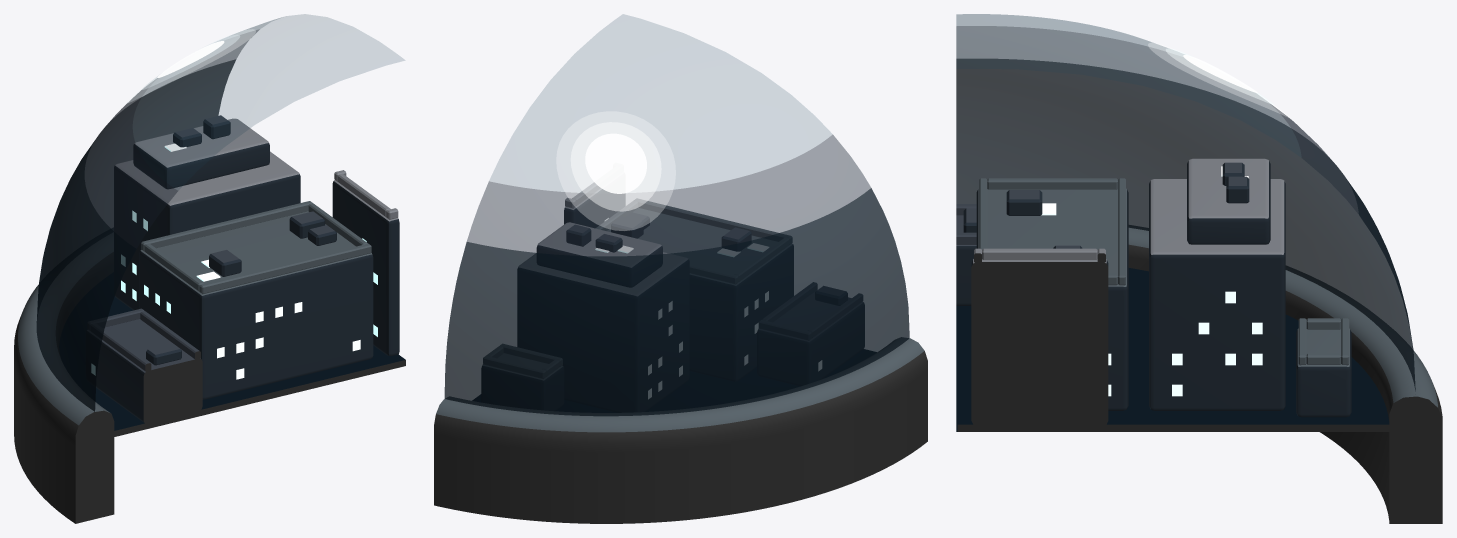
Rendered from glass_city_tl.glb.
3 views of the same model, side by side, from view 1: azimuth 30°, elevation 25°; view 2: azimuth 150°, elevation 25°; view 3: azimuth 270°, elevation 25° (orthographic). The views are drawn at different scales.
Visible parts, largest first — view 1: glassshell.001, b2.001, collar.001, b1.001, floor.001, b8.001, b1_top.001, b3.001, b2_rim_s.001, b2_rim_n.001, glassshell_a_halo.001, b2_windows.001 (+14 smaller); view 2: glassshell.001, collar.001, b1.001, b2.001, glassshell_a_halo.001, b8.001, b1_top.001, floor.001, glassshell_b_sheen.001, b15.001, glassshell_c_glint.001, b3.001 (+3 smaller); view 3: glassshell.001, b1.001, b3.001, collar.001, floor.001, b2.001, b1_top.001, b15.001, b2_rim_w.001, glassshell_a_halo.001, b3_rim_w.001, b8.001 (+6 smaller).
Part boxes in pixels (x1,y1,x2,y2): glassshell.001: [36, 14, 404, 411]; b2.001: [139, 211, 373, 399]; collar.001: [14, 232, 114, 523]; b1.001: [114, 151, 300, 310]; floor.001: [59, 272, 405, 436]; b8.001: [86, 319, 202, 423]; b1_top.001: [133, 118, 269, 189]; b3.001: [332, 180, 399, 355]; b2_rim_s.001: [199, 243, 371, 294]; b2_rim_n.001: [141, 201, 312, 251]; glassshell_a_halo.001: [127, 29, 255, 103]; b2_windows.001: [144, 285, 360, 379]; glassshell.001: [444, 14, 909, 416]; collar.001: [434, 337, 927, 523]; b1.001: [517, 252, 689, 412]; b2.001: [607, 208, 793, 381]; glassshell_a_halo.001: [556, 111, 675, 230]; b8.001: [757, 292, 864, 385]; b1_top.001: [536, 222, 662, 287]; floor.001: [472, 349, 876, 412]; glassshell_b_sheen.001: [570, 122, 661, 211]; b15.001: [481, 353, 563, 410]; glassshell_c_glint.001: [585, 133, 646, 193]; b3.001: [564, 188, 624, 228]; glassshell.001: [956, 14, 1415, 391]; b1.001: [1149, 179, 1285, 410]; b3.001: [971, 259, 1108, 425]; collar.001: [1128, 225, 1442, 523]; floor.001: [956, 268, 1391, 431]; b2.001: [976, 188, 1128, 410]; b1_top.001: [1187, 158, 1270, 244]; b15.001: [1296, 328, 1351, 417]; b2_rim_w.001: [987, 178, 1117, 189]; glassshell_a_halo.001: [1148, 43, 1290, 118]; b3_rim_w.001: [982, 248, 1097, 259]; b8.001: [956, 215, 976, 305].
Size of the model in its own units: 17.9 by 19.81 by 19.19.
